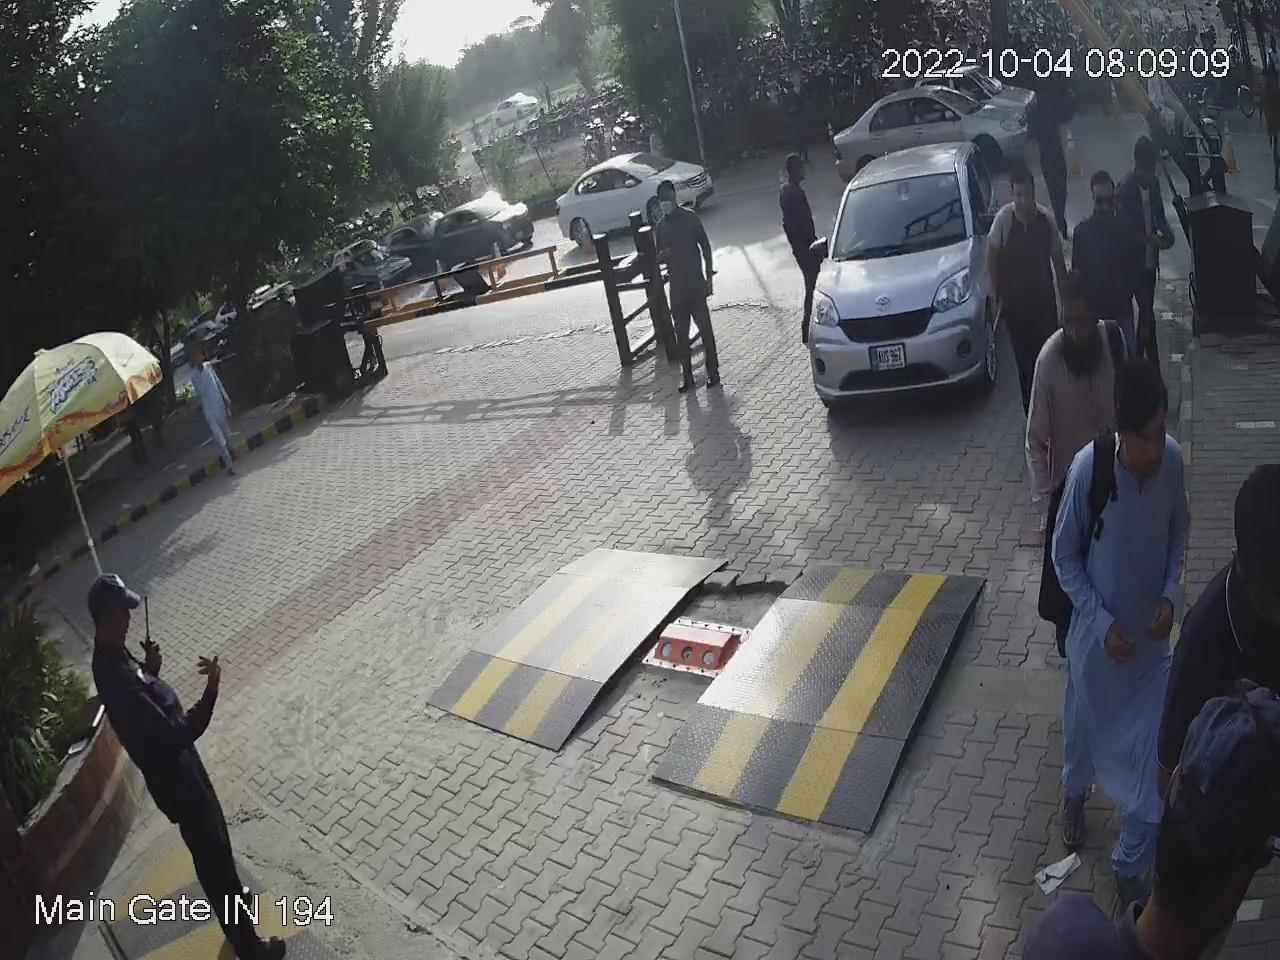windshield: (827, 162, 971, 262)
